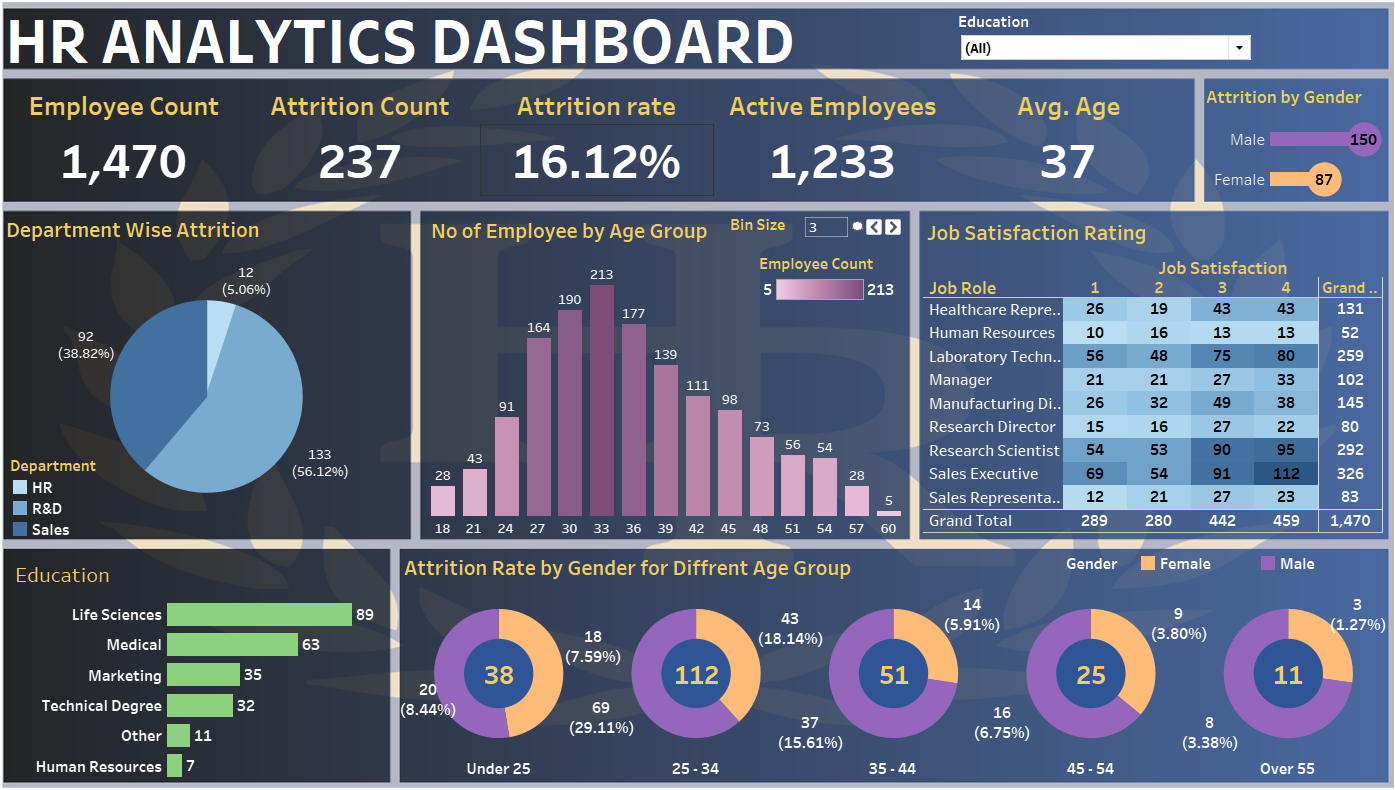

What the dashboard file says about the page in this screenshot:
{"tool":"tableau","page":{"name":"Hr Analytics Dashboard","canvas":[1500,810],"ordinal":0},"visuals":[{"type":"text","box":[56,7,798,82]},{"type":"image","param":"Image/Slide5.PNG","box":[8,8,1484,794]},{"type":"filter","title":"Department Wise Attrition ","param":"[federated.0u7p8ec1x6aarl1fcg515063vzd4].[none:Education:nk]","box":[1012,21,296,52]},{"type":"worksheet","title":"Attrition by Gender ","mark":"Automatic","rows":["Gender"],"cols":["Calculation_189714181451702272","Calculation_189714181451702272"],"box":[1256,90,184,119]},{"type":"worksheet","title":"KPI","mark":"Automatic","box":[60,92,1181,115]},{"type":"worksheet","title":"Department Wise Attrition ","mark":"Pie","box":[56,221,409,328]},{"type":"worksheet","title":"No of Employee by Age Group","mark":"Automatic","rows":["Employee Count"],"cols":["Age (bin)"],"box":[481,222,478,326]},{"type":"parameter","param":"[Parameters].[Parameter 1]","box":[784,224,174,30]},{"type":"worksheet","title":"Job Satisfaction Rating","mark":"Square","rows":["Job Role"],"cols":["Job Satisfaction"],"box":[977,224,460,319]},{"type":"legend","title":"No of Employee by Age Group","param":"[federated.0u7p8ec1x6aarl1fcg515063vzd4].[sum:Employee Count:qk]","box":[813,263,140,88]},{"type":"legend","title":"Department Wise Attrition ","param":"[federated.0u7p8ec1x6aarl1fcg515063vzd4].[none:Department:nk]","box":[64,465,140,85]},{"type":"worksheet","title":"Attrition Rate by Gender for Diffrent Age Group","mark":"Pie","rows":["Calculation_189714181775437829","Calculation_189714181775437829"],"cols":["CF_age band"],"box":[454,559,987,231]},{"type":"legend","title":"Attrition Rate by Gender for Diffrent Age Group","param":"[federated.0u7p8ec1x6aarl1fcg515063vzd4].[none:Gender:nk]","box":[1120,563,319,34]},{"type":"worksheet","title":"Education","mark":"Automatic","rows":["Education Field"],"cols":["Calculation_189714181451702272"],"box":[65,566,376,225]}]}

Visuals, with their boxes on the page's 1500x810 design canvas (x1, y1, x2, y2). These are canvas units, not pixel positions in the 1395x790 screenshot, which may show the page scaled, cropped or inside an application window:
text: <bbox>56, 7, 854, 89</bbox>
image: <bbox>8, 8, 1492, 802</bbox>
"Department Wise Attrition " filter: <bbox>1012, 21, 1308, 73</bbox>
"Attrition by Gender " worksheet: <bbox>1256, 90, 1440, 209</bbox>
"KPI" worksheet: <bbox>60, 92, 1241, 207</bbox>
"Department Wise Attrition " worksheet (Pie marks): <bbox>56, 221, 465, 549</bbox>
"No of Employee by Age Group" worksheet: <bbox>481, 222, 959, 548</bbox>
parameter: <bbox>784, 224, 958, 254</bbox>
"Job Satisfaction Rating" worksheet (Square marks): <bbox>977, 224, 1437, 543</bbox>
"No of Employee by Age Group" legend: <bbox>813, 263, 953, 351</bbox>
"Department Wise Attrition " legend: <bbox>64, 465, 204, 550</bbox>
"Attrition Rate by Gender for Diffrent Age Group" worksheet (Pie marks): <bbox>454, 559, 1441, 790</bbox>
"Attrition Rate by Gender for Diffrent Age Group" legend: <bbox>1120, 563, 1439, 597</bbox>
"Education" worksheet: <bbox>65, 566, 441, 791</bbox>
